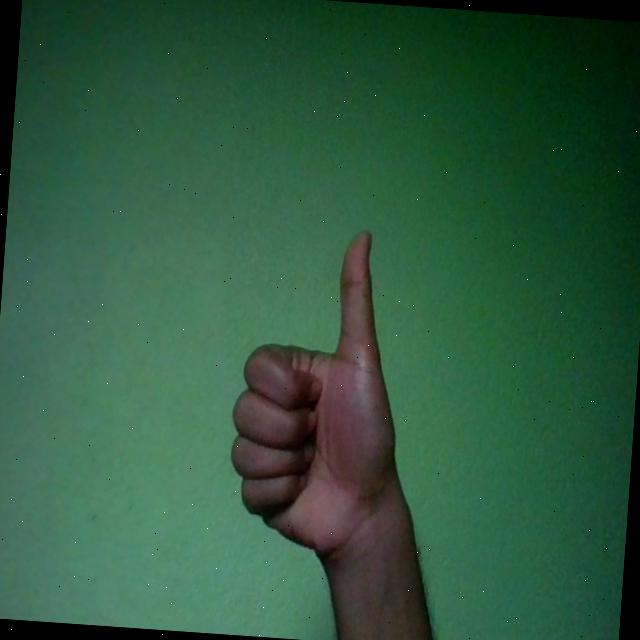Good Job: (222, 222, 412, 566)
